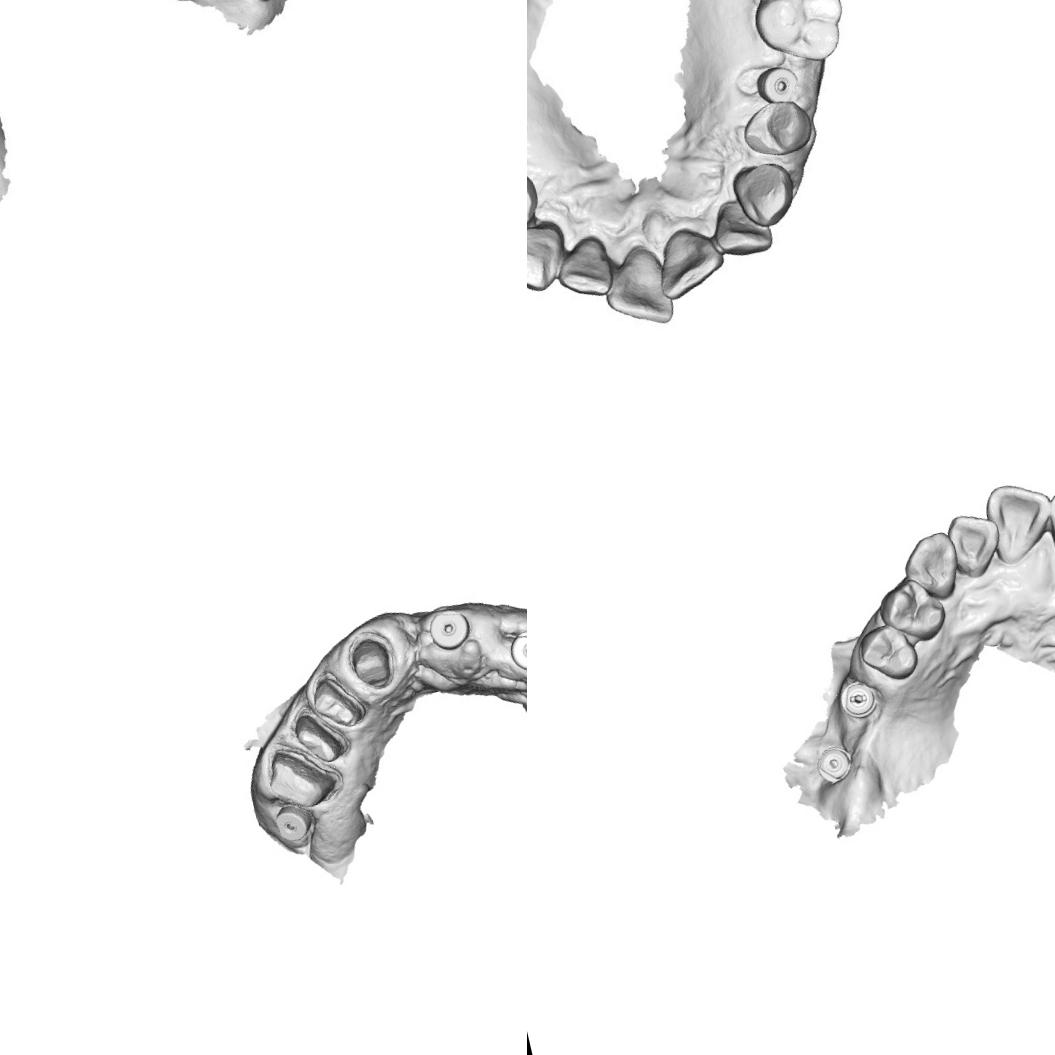canine: (897, 526, 967, 608), (731, 159, 797, 223), (527, 223, 569, 298)
crown: (260, 736, 344, 816), (304, 669, 367, 737), (287, 704, 346, 771), (342, 630, 401, 697)
implant: (425, 602, 475, 655), (269, 800, 316, 846), (811, 740, 856, 788), (758, 62, 802, 110), (505, 625, 527, 676)
implant_minus: (832, 670, 884, 724)
incisor: (594, 238, 681, 338), (979, 473, 1055, 567), (650, 220, 733, 302), (544, 231, 622, 306), (708, 191, 777, 266), (941, 506, 1008, 581)
molar: (741, 0, 856, 75)
premolar: (873, 572, 953, 650), (734, 92, 820, 164), (855, 619, 923, 689)
